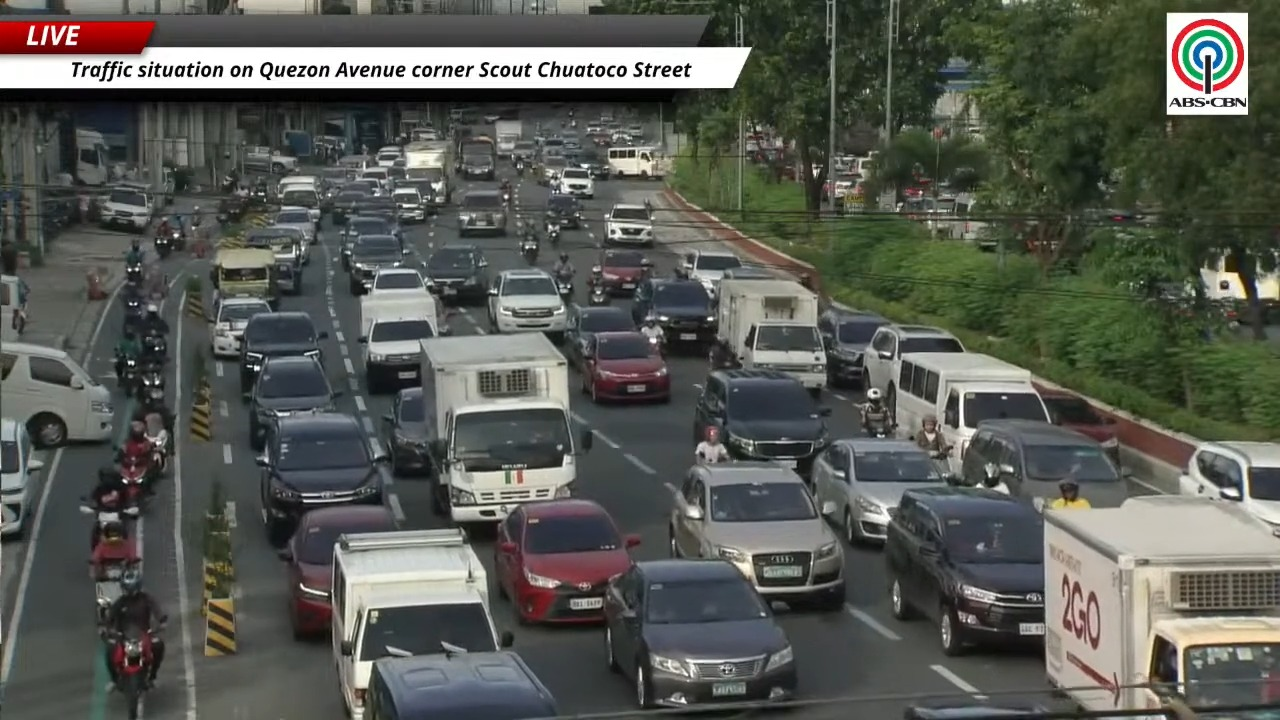bus: (607, 146, 669, 178)
car: (604, 559, 797, 709), (884, 486, 1045, 655), (668, 462, 845, 610), (494, 498, 639, 623), (256, 413, 385, 546), (278, 505, 396, 638), (693, 369, 829, 476), (960, 419, 1127, 506), (811, 438, 945, 544), (364, 651, 559, 719), (1180, 441, 1279, 528), (248, 356, 339, 449), (239, 311, 328, 395), (862, 323, 965, 395), (358, 311, 446, 394), (581, 330, 670, 402), (1039, 388, 1120, 465), (631, 277, 716, 346), (489, 268, 566, 343), (817, 308, 889, 386), (0, 417, 43, 537), (562, 305, 636, 368), (382, 386, 434, 475), (424, 244, 489, 304), (210, 297, 271, 357), (348, 235, 407, 294), (676, 249, 741, 296), (903, 699, 1048, 719), (340, 216, 392, 270), (244, 225, 310, 267), (100, 184, 156, 233), (276, 177, 327, 228), (456, 190, 507, 237), (598, 249, 651, 294), (356, 195, 403, 243), (603, 204, 654, 246), (272, 206, 320, 244), (367, 267, 428, 295), (397, 178, 441, 214), (243, 146, 297, 174), (330, 186, 368, 224), (545, 193, 581, 229), (392, 187, 428, 222), (536, 147, 566, 187), (559, 167, 594, 198), (574, 150, 609, 179), (460, 155, 495, 181), (342, 177, 381, 200), (360, 166, 391, 193), (722, 265, 777, 279), (375, 145, 403, 167), (512, 140, 536, 162)
motorcycle: (104, 628, 160, 719), (80, 505, 139, 582), (79, 499, 138, 551), (118, 457, 151, 511), (145, 413, 169, 473), (169, 208, 198, 251), (588, 266, 610, 305), (118, 356, 139, 396), (142, 333, 167, 364), (122, 292, 144, 326), (930, 447, 950, 477), (520, 238, 539, 266), (864, 421, 894, 438), (643, 333, 665, 356), (555, 273, 573, 301), (125, 262, 144, 287), (154, 234, 173, 259), (588, 285, 610, 306), (546, 220, 561, 246), (220, 173, 239, 192), (502, 188, 510, 205), (515, 161, 523, 175)
truck: (1043, 496, 1279, 712), (331, 528, 511, 719), (421, 333, 593, 522), (716, 279, 826, 394), (358, 292, 442, 393), (404, 140, 453, 204), (494, 119, 522, 157)
